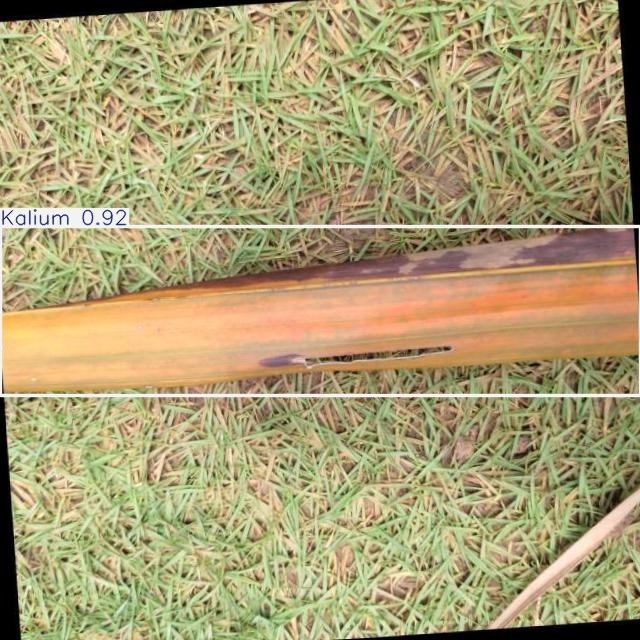Kalium: (0, 226, 640, 395)
